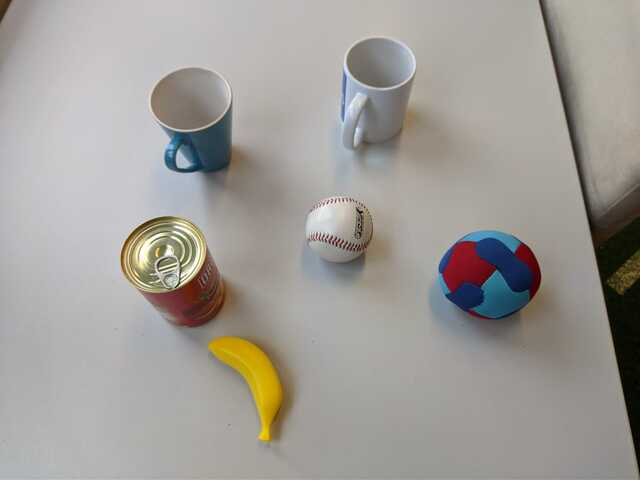005_tomato_soup_can: (119, 215, 227, 329)
011_banana: (206, 335, 294, 447)
025_mug: (148, 67, 236, 178), (337, 37, 417, 151)
055_baseball: (305, 196, 377, 263)
057_racquetball: (435, 229, 545, 321)
